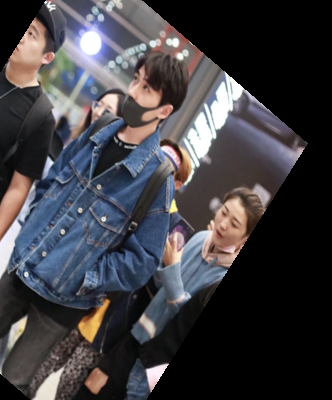mask_weared_incorrect: (122, 44, 194, 141)
